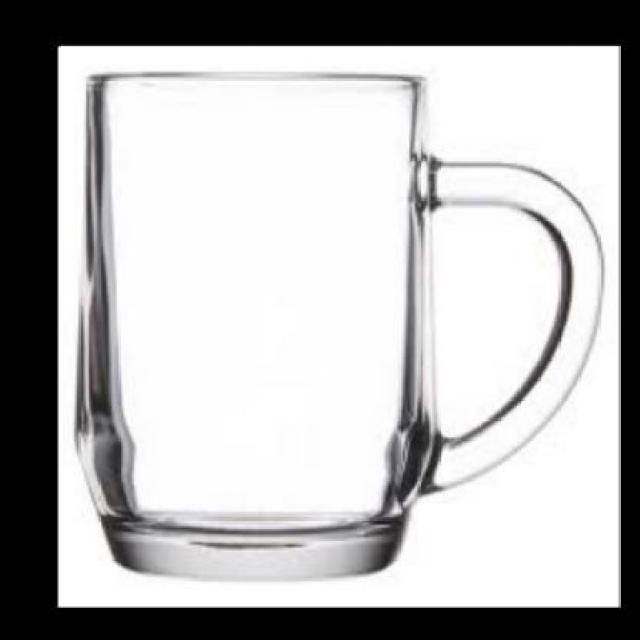taza: (83, 72, 604, 580)
